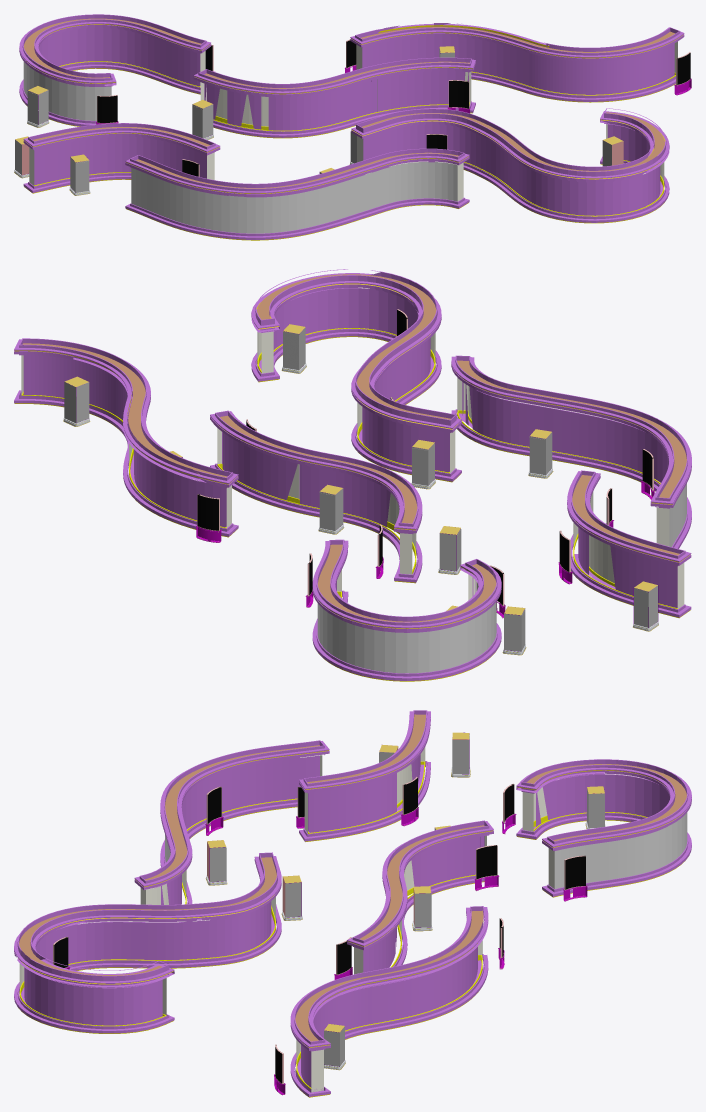
Rendered from DESIGN-ASSET-KAP-DIRECT-MESH-001.glb.
3 renders of one model, top to bottom at view 1: azimuth 30°, elevation 25°; view 2: azimuth 150°, elevation 25°; view 3: azimuth 270°, elevation 25°, orthographic. The views are drawn at different scales.
Parts seen in each view (by area): view 1: 009 0122_DarkOrchid, 006 0054_LightYellow _1_, 001 0042_Sienna, 004 0046_Gold, 014 Color M09, 005 0054_LightYellow, 021 Translucent Glass Gray, 007 0056_Yellow, 003 0045_Goldenrod, 000 0017_IndianRed, 015 DEPHON, 011 Color A02 (+2 smaller); view 2: 009 0122_DarkOrchid, 001 0042_Sienna, 006 0054_LightYellow _1_, 005 0054_LightYellow, 021 Translucent Glass Gray, 004 0046_Gold, 014 Color M09, 007 0056_Yellow, 003 0045_Goldenrod, 017 JOURASI_png111, 013 Color K07, 011 Color A02 (+2 smaller); view 3: 009 0122_DarkOrchid, 001 0042_Sienna, 006 0054_LightYellow _1_, 005 0054_LightYellow, 014 Color M09, 021 Translucent Glass Gray, 004 0046_Gold, 007 0056_Yellow, 013 Color K07, 011 Color A02, 003 0045_Goldenrod.
Boxes of the visible parts, x1,y1,x2,y2 form: 009 0122_DarkOrchid: [19, 14, 684, 239]; 006 0054_LightYellow _1_: [23, 61, 457, 233]; 001 0042_Sienna: [24, 18, 675, 188]; 004 0046_Gold: [23, 24, 682, 240]; 014 Color M09: [97, 40, 690, 176]; 005 0054_LightYellow: [29, 41, 677, 201]; 021 Translucent Glass Gray: [15, 47, 611, 192]; 007 0056_Yellow: [26, 61, 675, 216]; 003 0045_Goldenrod: [15, 46, 623, 172]; 000 0017_IndianRed: [16, 52, 623, 175]; 015 DEPHON: [75, 161, 89, 192]; 011 Color A02: [97, 39, 690, 176]; 009 0122_DarkOrchid: [14, 269, 691, 680]; 001 0042_Sienna: [22, 274, 686, 622]; 006 0054_LightYellow _1_: [317, 484, 686, 673]; 005 0054_LightYellow: [21, 287, 684, 608]; 021 Translucent Glass Gray: [64, 327, 657, 651]; 004 0046_Gold: [14, 283, 690, 681]; 014 Color M09: [197, 310, 653, 605]; 007 0056_Yellow: [21, 328, 677, 652]; 003 0045_Goldenrod: [64, 324, 657, 615]; 017 JOURASI_png111: [283, 332, 428, 485]; 013 Color K07: [196, 481, 655, 618]; 011 Color A02: [197, 309, 653, 606]; 009 0122_DarkOrchid: [14, 710, 691, 1096]; 001 0042_Sienna: [19, 714, 686, 1041]; 006 0054_LightYellow _1_: [165, 812, 687, 888]; 005 0054_LightYellow: [19, 747, 644, 1092]; 014 Color M09: [54, 777, 585, 1082]; 021 Translucent Glass Gray: [210, 734, 604, 1066]; 004 0046_Gold: [18, 750, 684, 1097]; 007 0056_Yellow: [19, 761, 647, 1089]; 013 Color K07: [65, 807, 587, 1095]; 011 Color A02: [53, 777, 585, 1083]; 003 0045_Goldenrod: [207, 732, 604, 1032].
Bounding box in the file's own units: 41.72 × 3.3 × 35.92.
